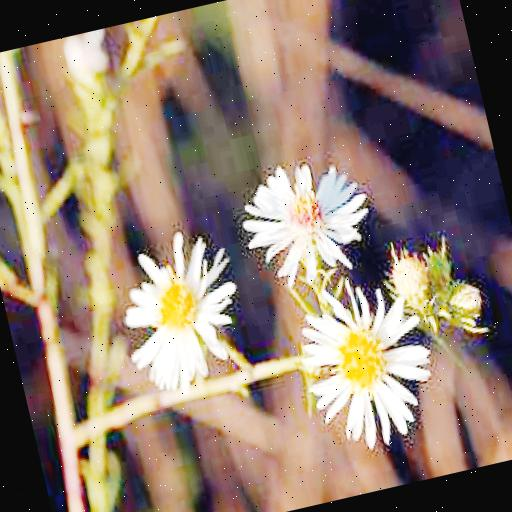daisy: (296, 287, 438, 448), (116, 232, 251, 401), (237, 156, 375, 278)
